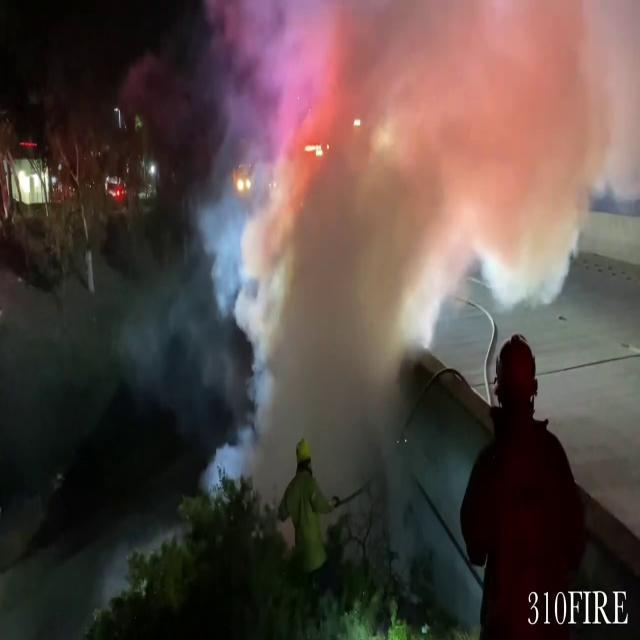Smoke: (215, 0, 611, 508)
